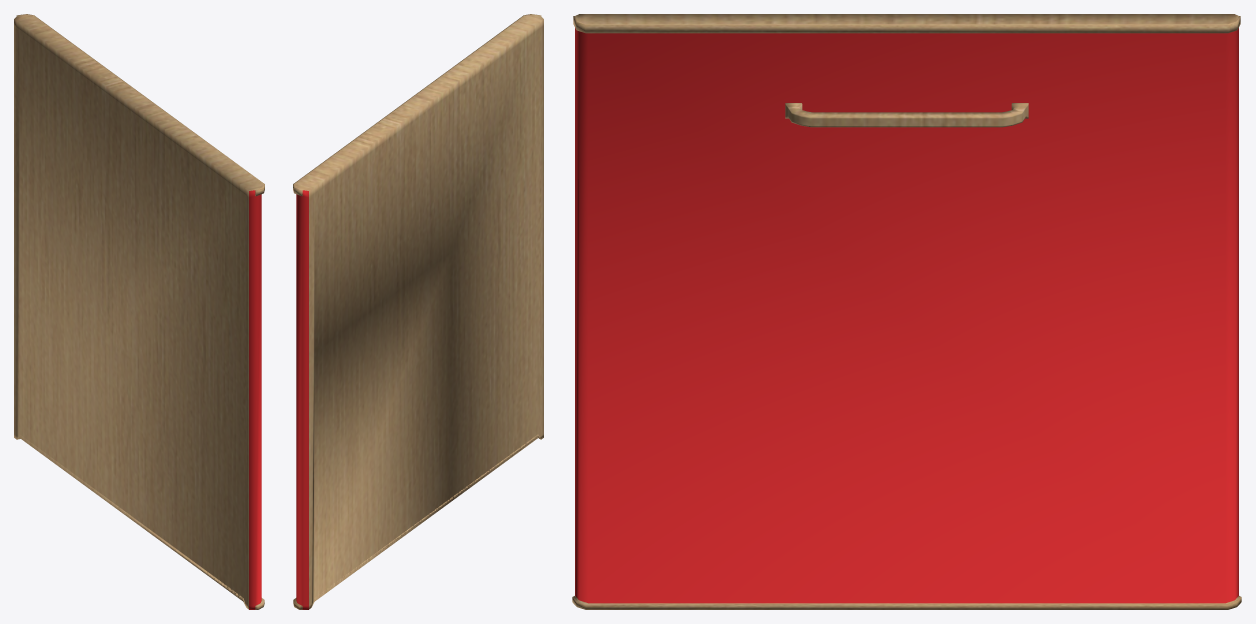
Rendered from MOD_APP_Dishwasher_door_01.fbx.
3 renders of one model, left to right at view 1: azimuth 30°, elevation 25°; view 2: azimuth 150°, elevation 25°; view 3: azimuth 270°, elevation 25°, orthographic. The views are drawn at different scales.
Parts seen in each view (by area): view 1: HSHP_MOD_Dishwasher_door_01; view 2: HSHP_MOD_Dishwasher_door_01; view 3: HSHP_MOD_Dishwasher_door_01.
Part boxes in pixels (<box>): HSHP_MOD_Dishwasher_door_01: <box>14,14,264,609</box>; HSHP_MOD_Dishwasher_door_01: <box>293,14,543,609</box>; HSHP_MOD_Dishwasher_door_01: <box>572,14,1241,609</box>.
Bounding box in the file's own units: 0.0805 × 0.9399 × 0.9742.
